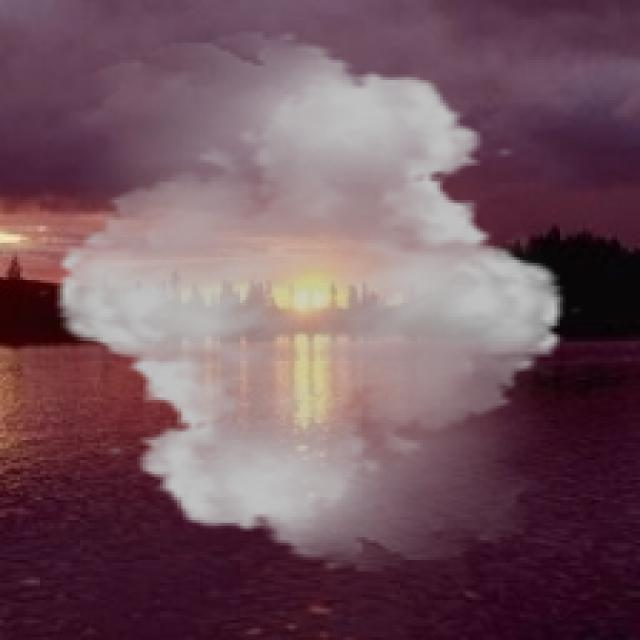Smoke: (34, 31, 586, 572)
